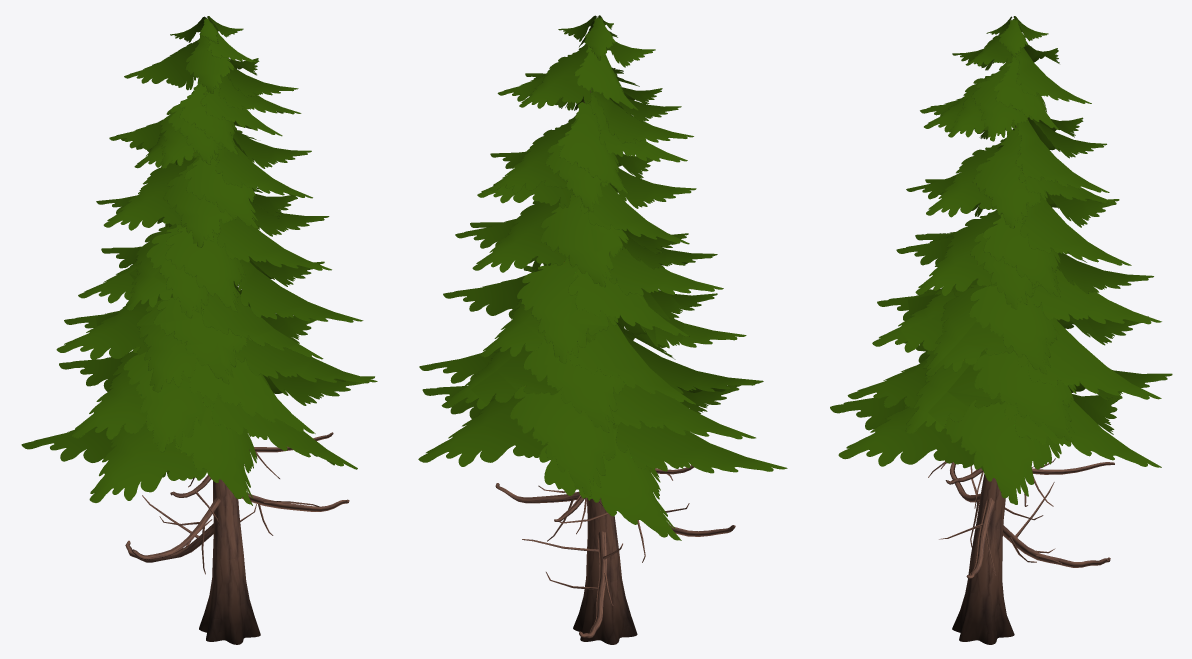
The model's file is Pine_4.gltf.
3 renders of one model, left to right at view 1: azimuth 30°, elevation 25°; view 2: azimuth 150°, elevation 25°; view 3: azimuth 270°, elevation 25°, orthographic. The views are drawn at different scales.
Parts seen in each view (by area): view 1: Pine_4; view 2: Pine_4; view 3: Pine_4.
Boxes of the visible parts, bbox=[...] form: Pine_4: bbox=[21, 16, 377, 644]; Pine_4: bbox=[418, 15, 787, 644]; Pine_4: bbox=[830, 16, 1172, 644].
Size of the model in its own units: 5.8 by 10.24 by 5.37.
Materials: 2 (2 with a texture image).
